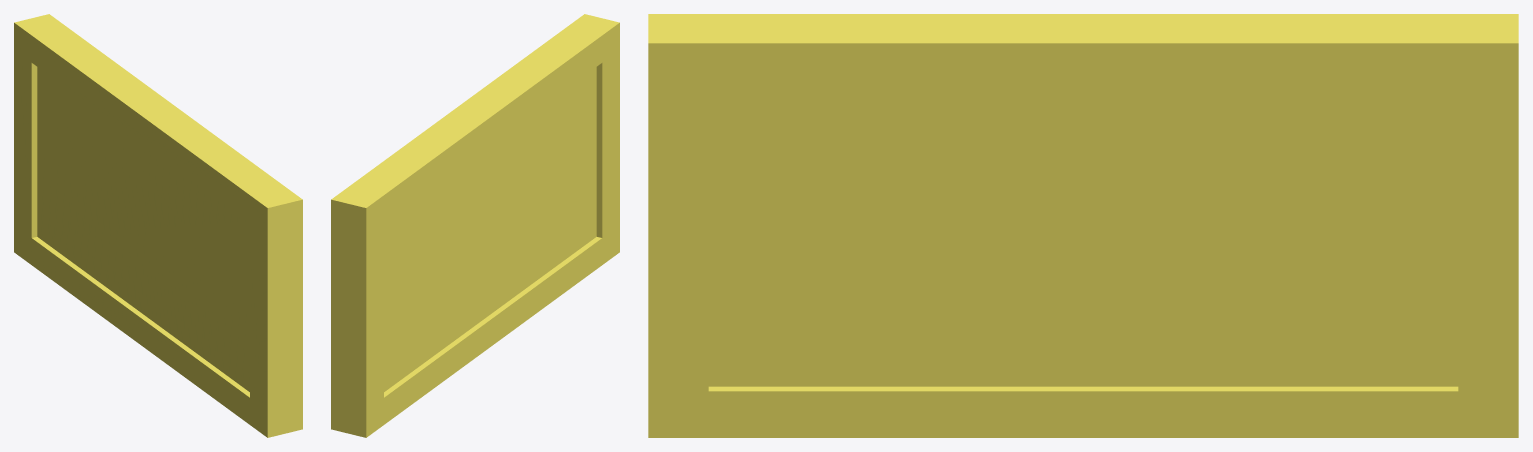
Rendered from wall.fbx.
3 renders of one model, left to right at view 1: azimuth 30°, elevation 25°; view 2: azimuth 150°, elevation 25°; view 3: azimuth 270°, elevation 25°, orthographic. The views are drawn at different scales.
Parts seen in each view (by area): view 1: Wall; view 2: Wall; view 3: Wall.
Boxes of the visible parts, bbox=[...] form: Wall: bbox=[14, 14, 302, 437]; Wall: bbox=[331, 14, 619, 437]; Wall: bbox=[648, 14, 1518, 437].
Size of the model in its own units: 32.04 by 200 by 400.
